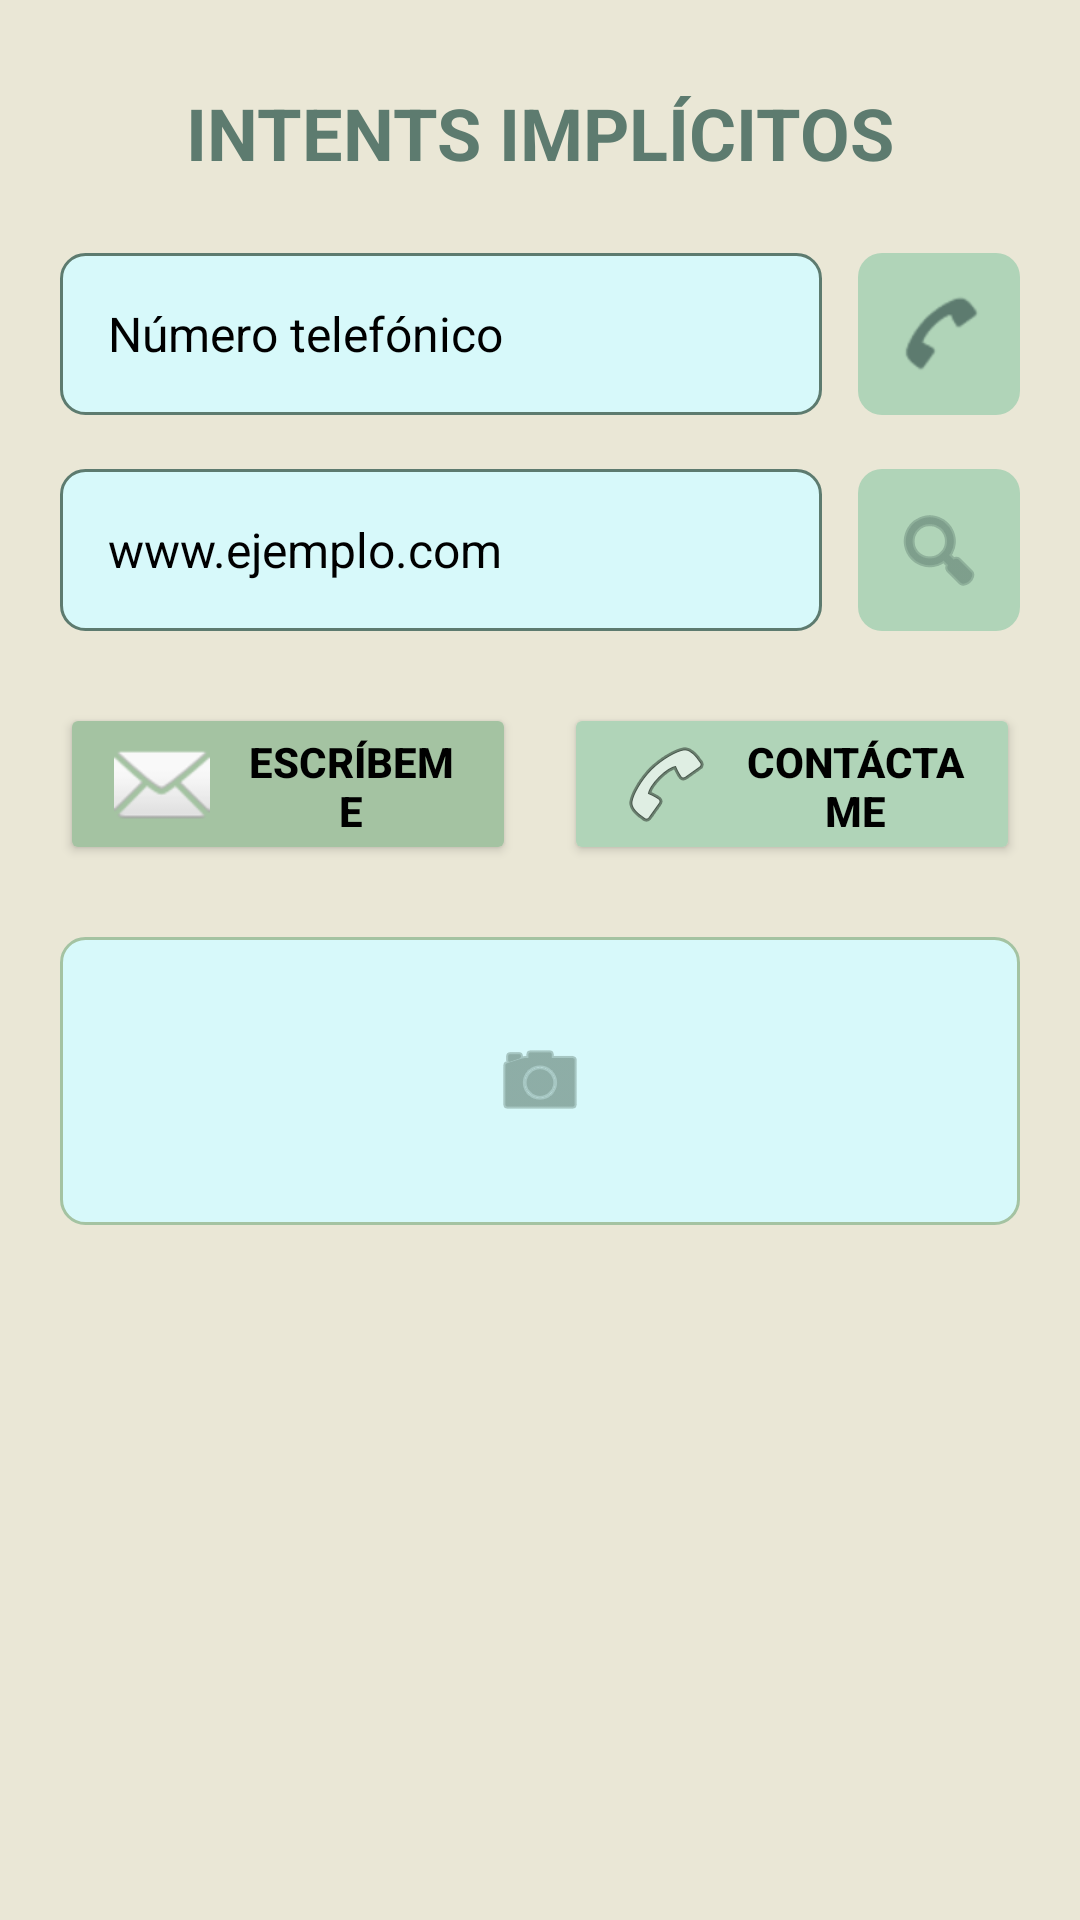

Screen size 1080px×1920px. Icon name, then its center in pixels as point (x, y):
Marcar teléfono: point (939, 334)
